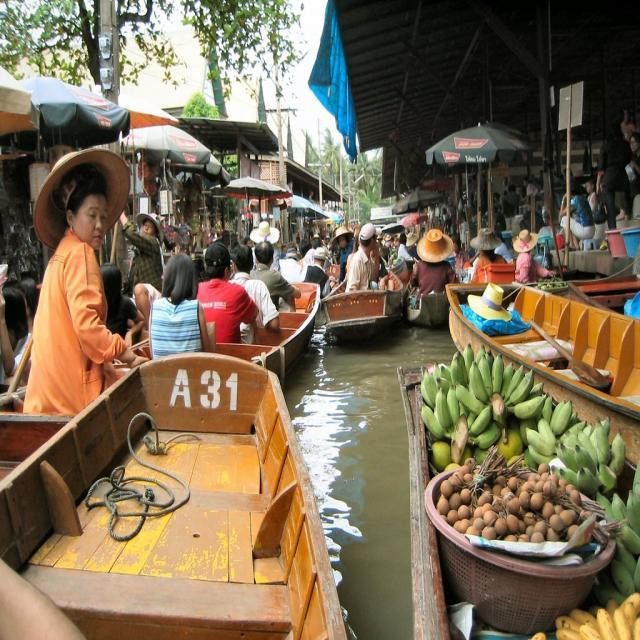Banana: (418, 342, 640, 640)
